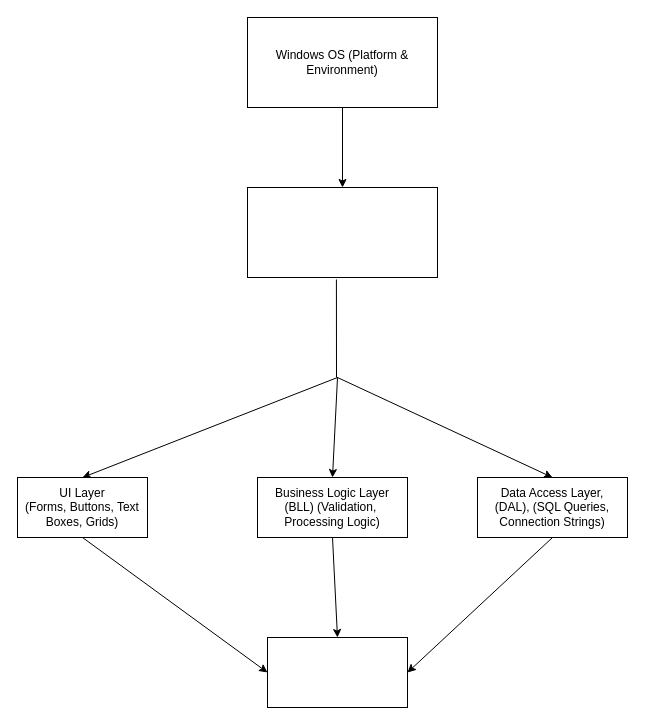
Image size: 645x725. Some labels were removed from this diagram. Here are the shapes that lost their labels. From the top down, the centre of each, then its label:
At pixel 342 232: "Student Management App (Windows Forms - C#)".
At pixel 337 672: "Database (Local) (e.g., SQL Server / .mdf File / SQLite)".
